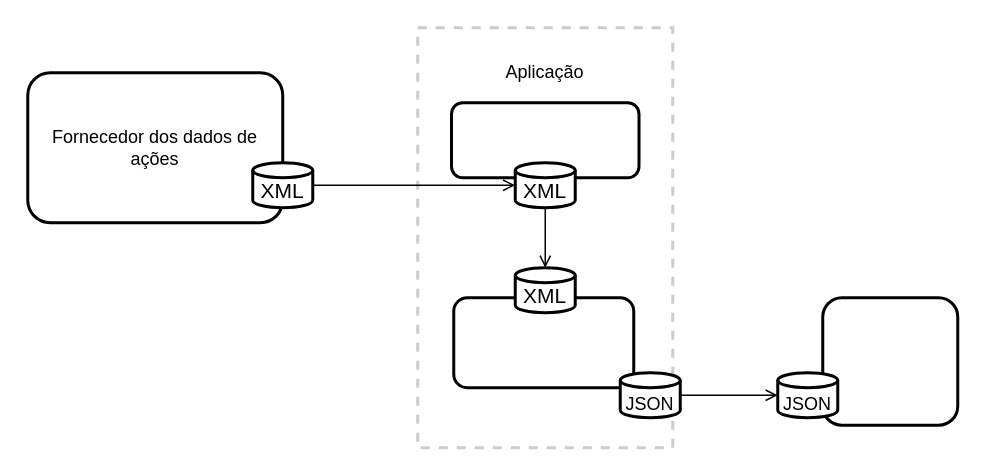
Some shapes in this 984 by 474 pixel diagram are drawn without their labels. The shapes that lost their labels are listed below. From the top down, each one's box as (x1, y1, x2, y2) in pixels, then its label:
(449, 100, 640, 178): Classes principais
(452, 296, 634, 388): Adaptador XML para JSON
(820, 296, 958, 426): Biblioteca de Análises
